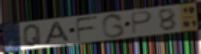8: (157, 8, 179, 32)
A: (45, 20, 72, 45)
F: (75, 15, 100, 43)
G: (100, 12, 127, 39)
P: (130, 10, 154, 36)
Q: (22, 23, 43, 47)
